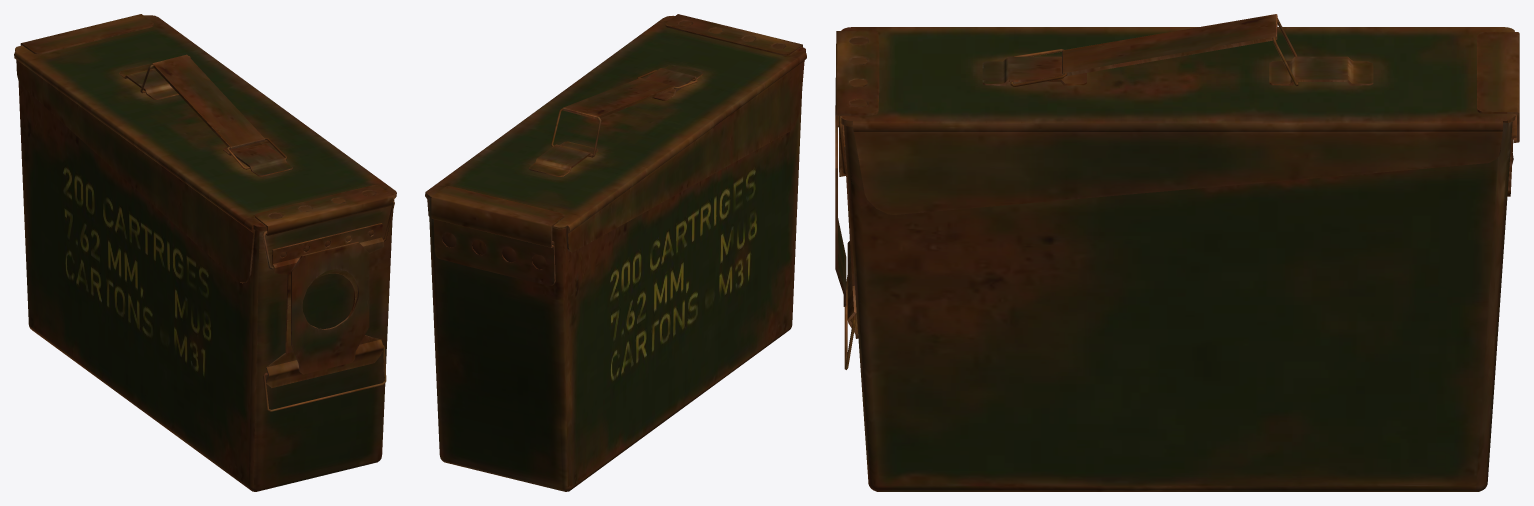
The model's file is ammo_box.glb.
3 views of the same model, side by side, from view 1: azimuth 30°, elevation 25°; view 2: azimuth 150°, elevation 25°; view 3: azimuth 270°, elevation 25° (orthographic). The views are drawn at different scales.
Visible parts, largest first — view 1: ammo_box_handle_ring_b; view 2: ammo_box_handle_ring_b; view 3: ammo_box_handle_ring_b.
Boxes of the visible parts, left/top/right/bottom form: ammo_box_handle_ring_b: left=14, top=14, right=396, bottom=491; ammo_box_handle_ring_b: left=425, top=14, right=806, bottom=491; ammo_box_handle_ring_b: left=835, top=14, right=1519, bottom=491.
Size of the model in its own units: 0.0865 by 0.1773 by 0.2578.
Materials: 1 (1 with a texture image).
